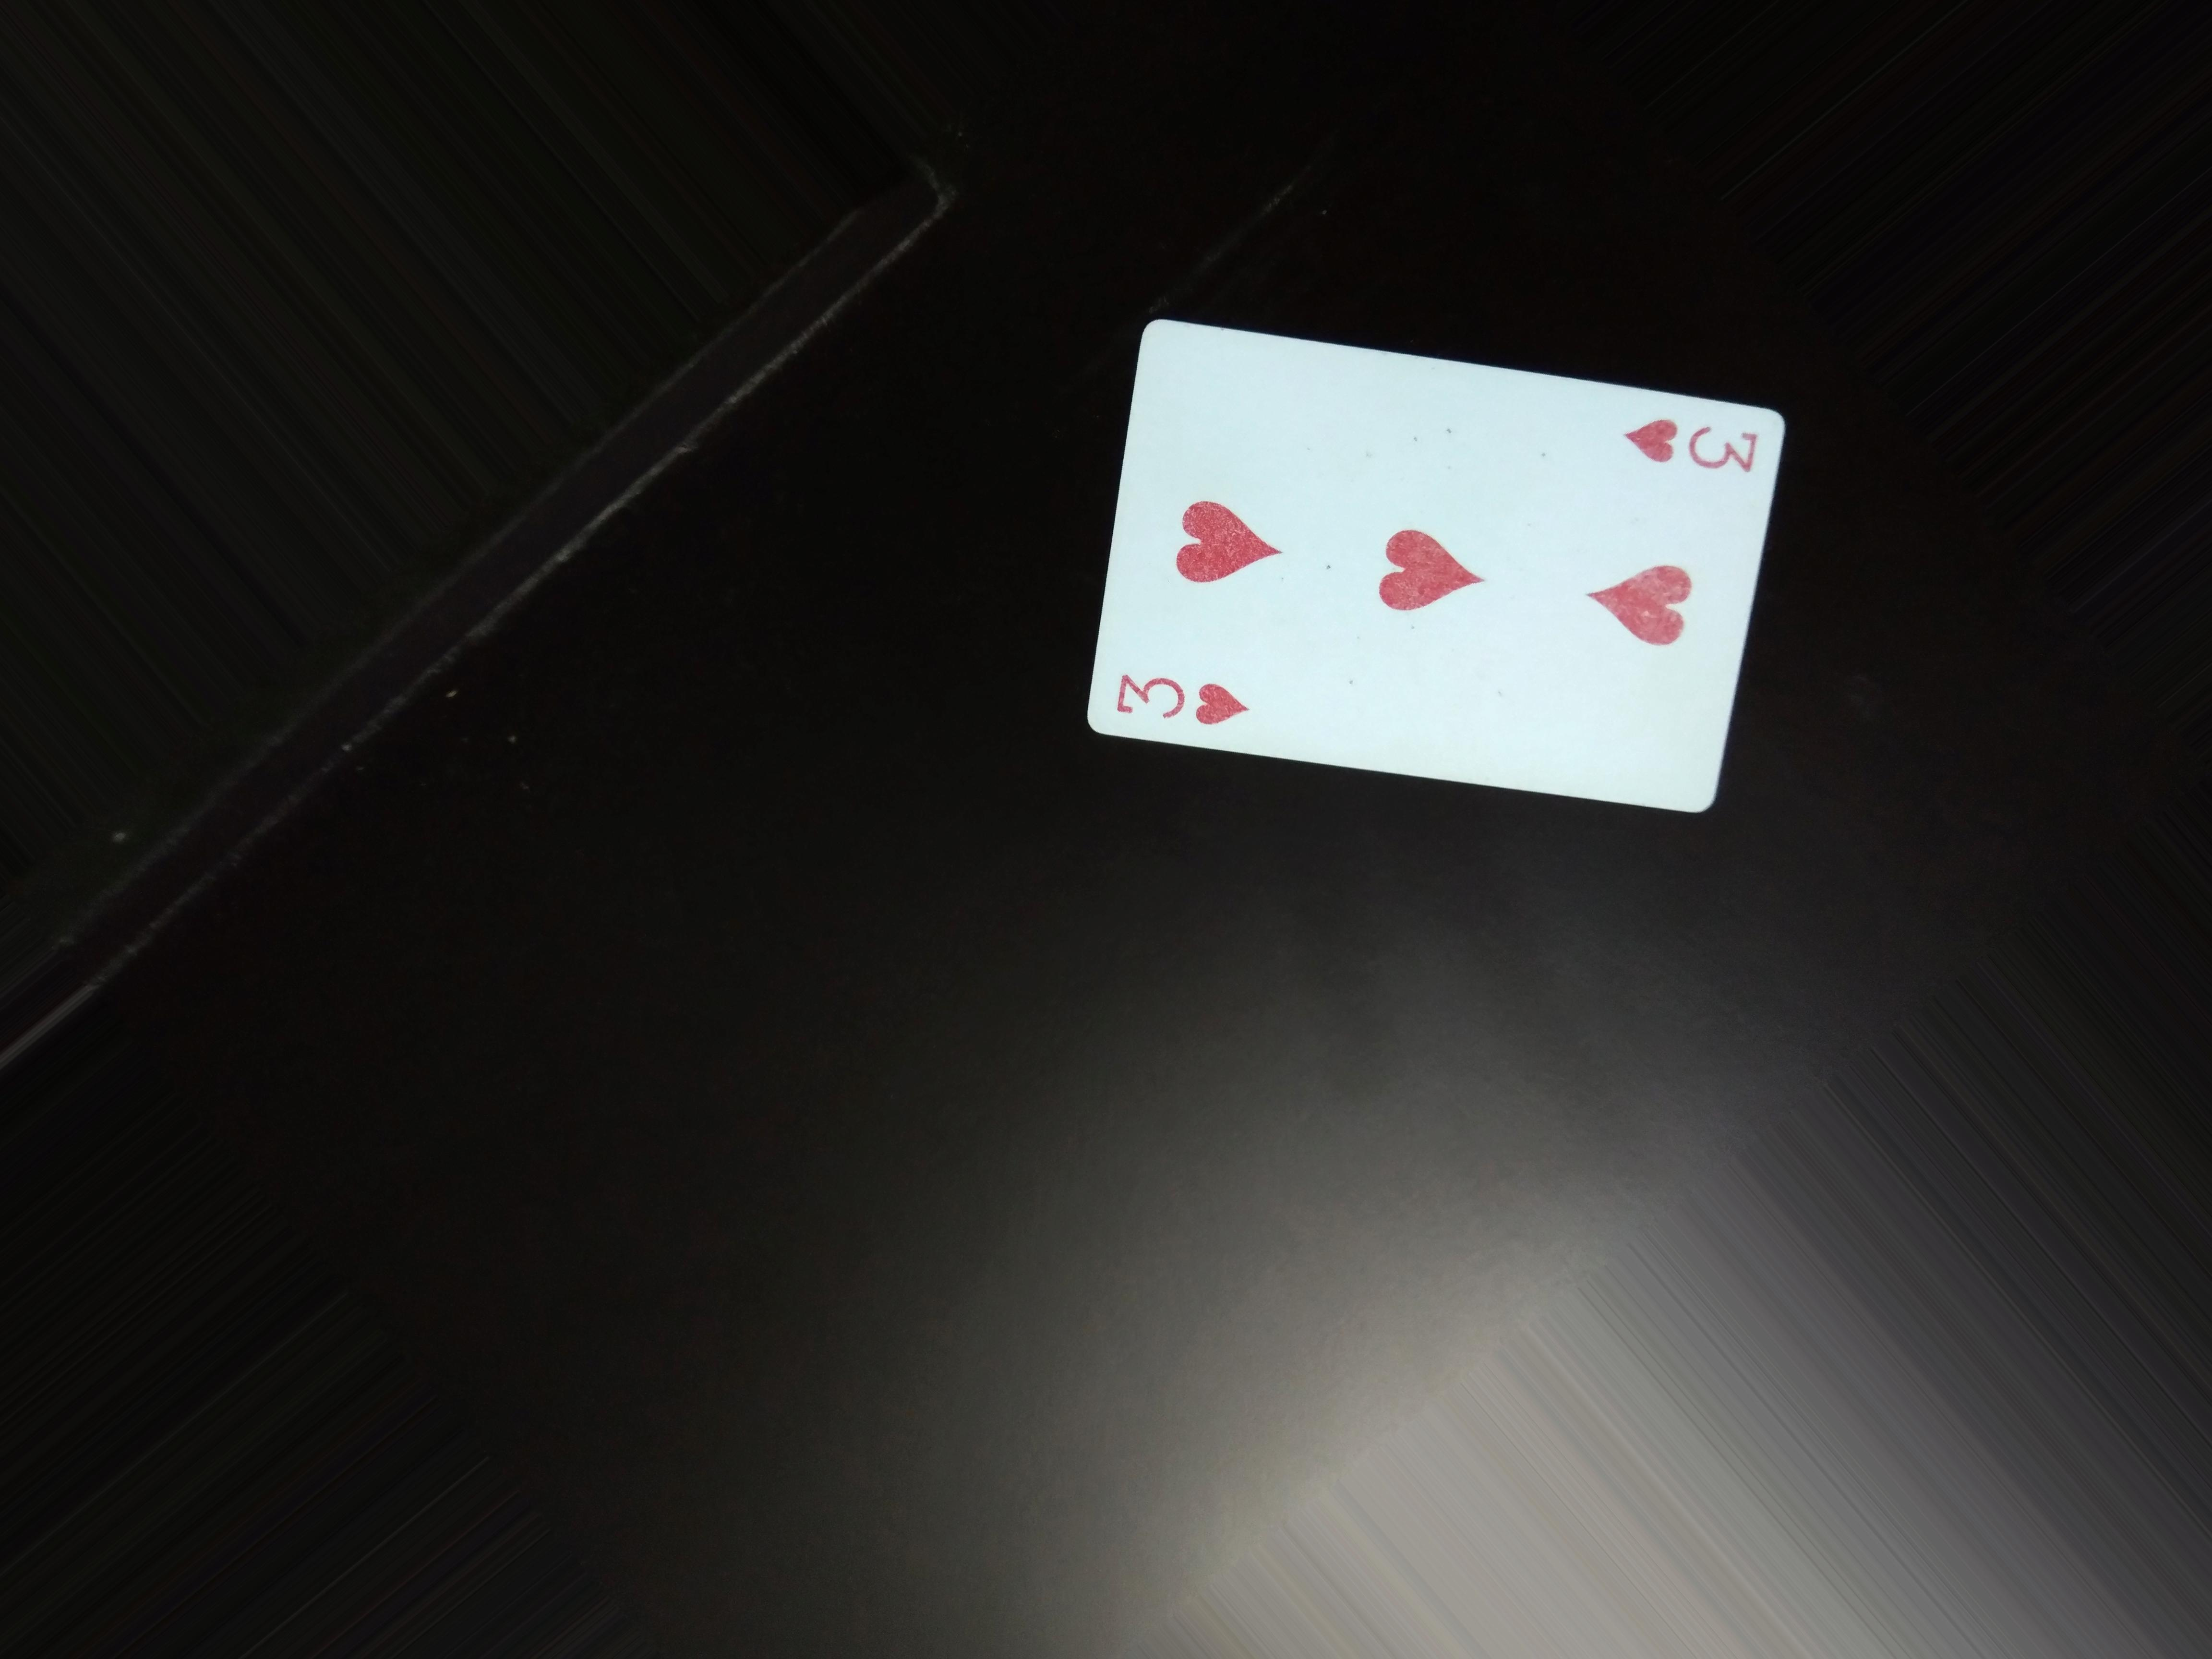3H: (1099, 669, 1277, 739)
